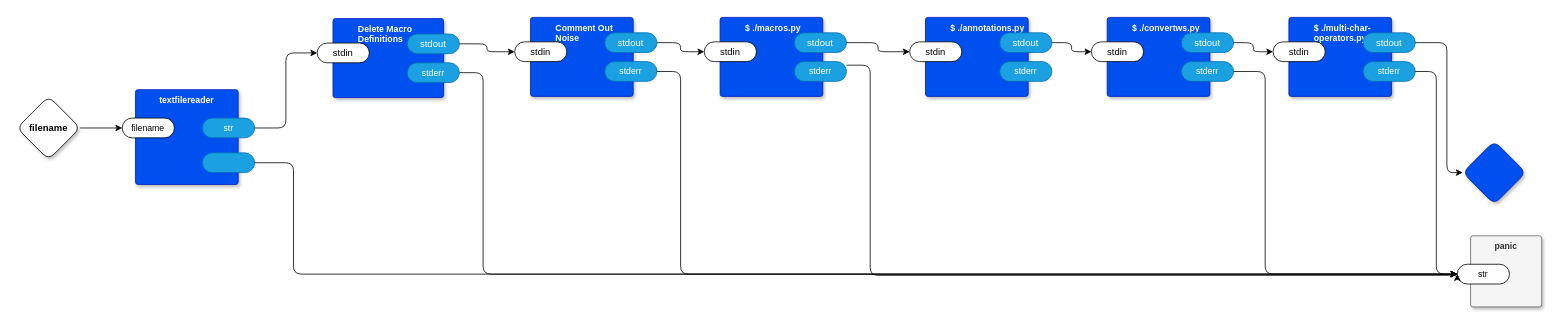
Image size: 1560x326. Some labels were removed from this diagram. Here are the shapes that lost their labels. From the top down, the centre of each, then its label:
At point 228,162: "error".
At point 1495,173: "output".
